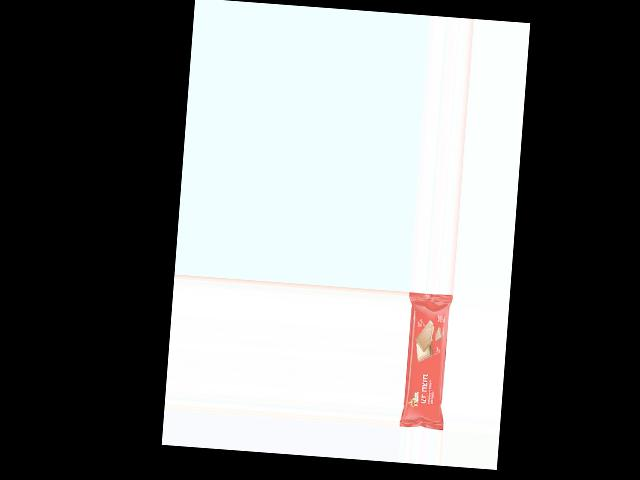chocolate: (399, 293, 454, 426)
